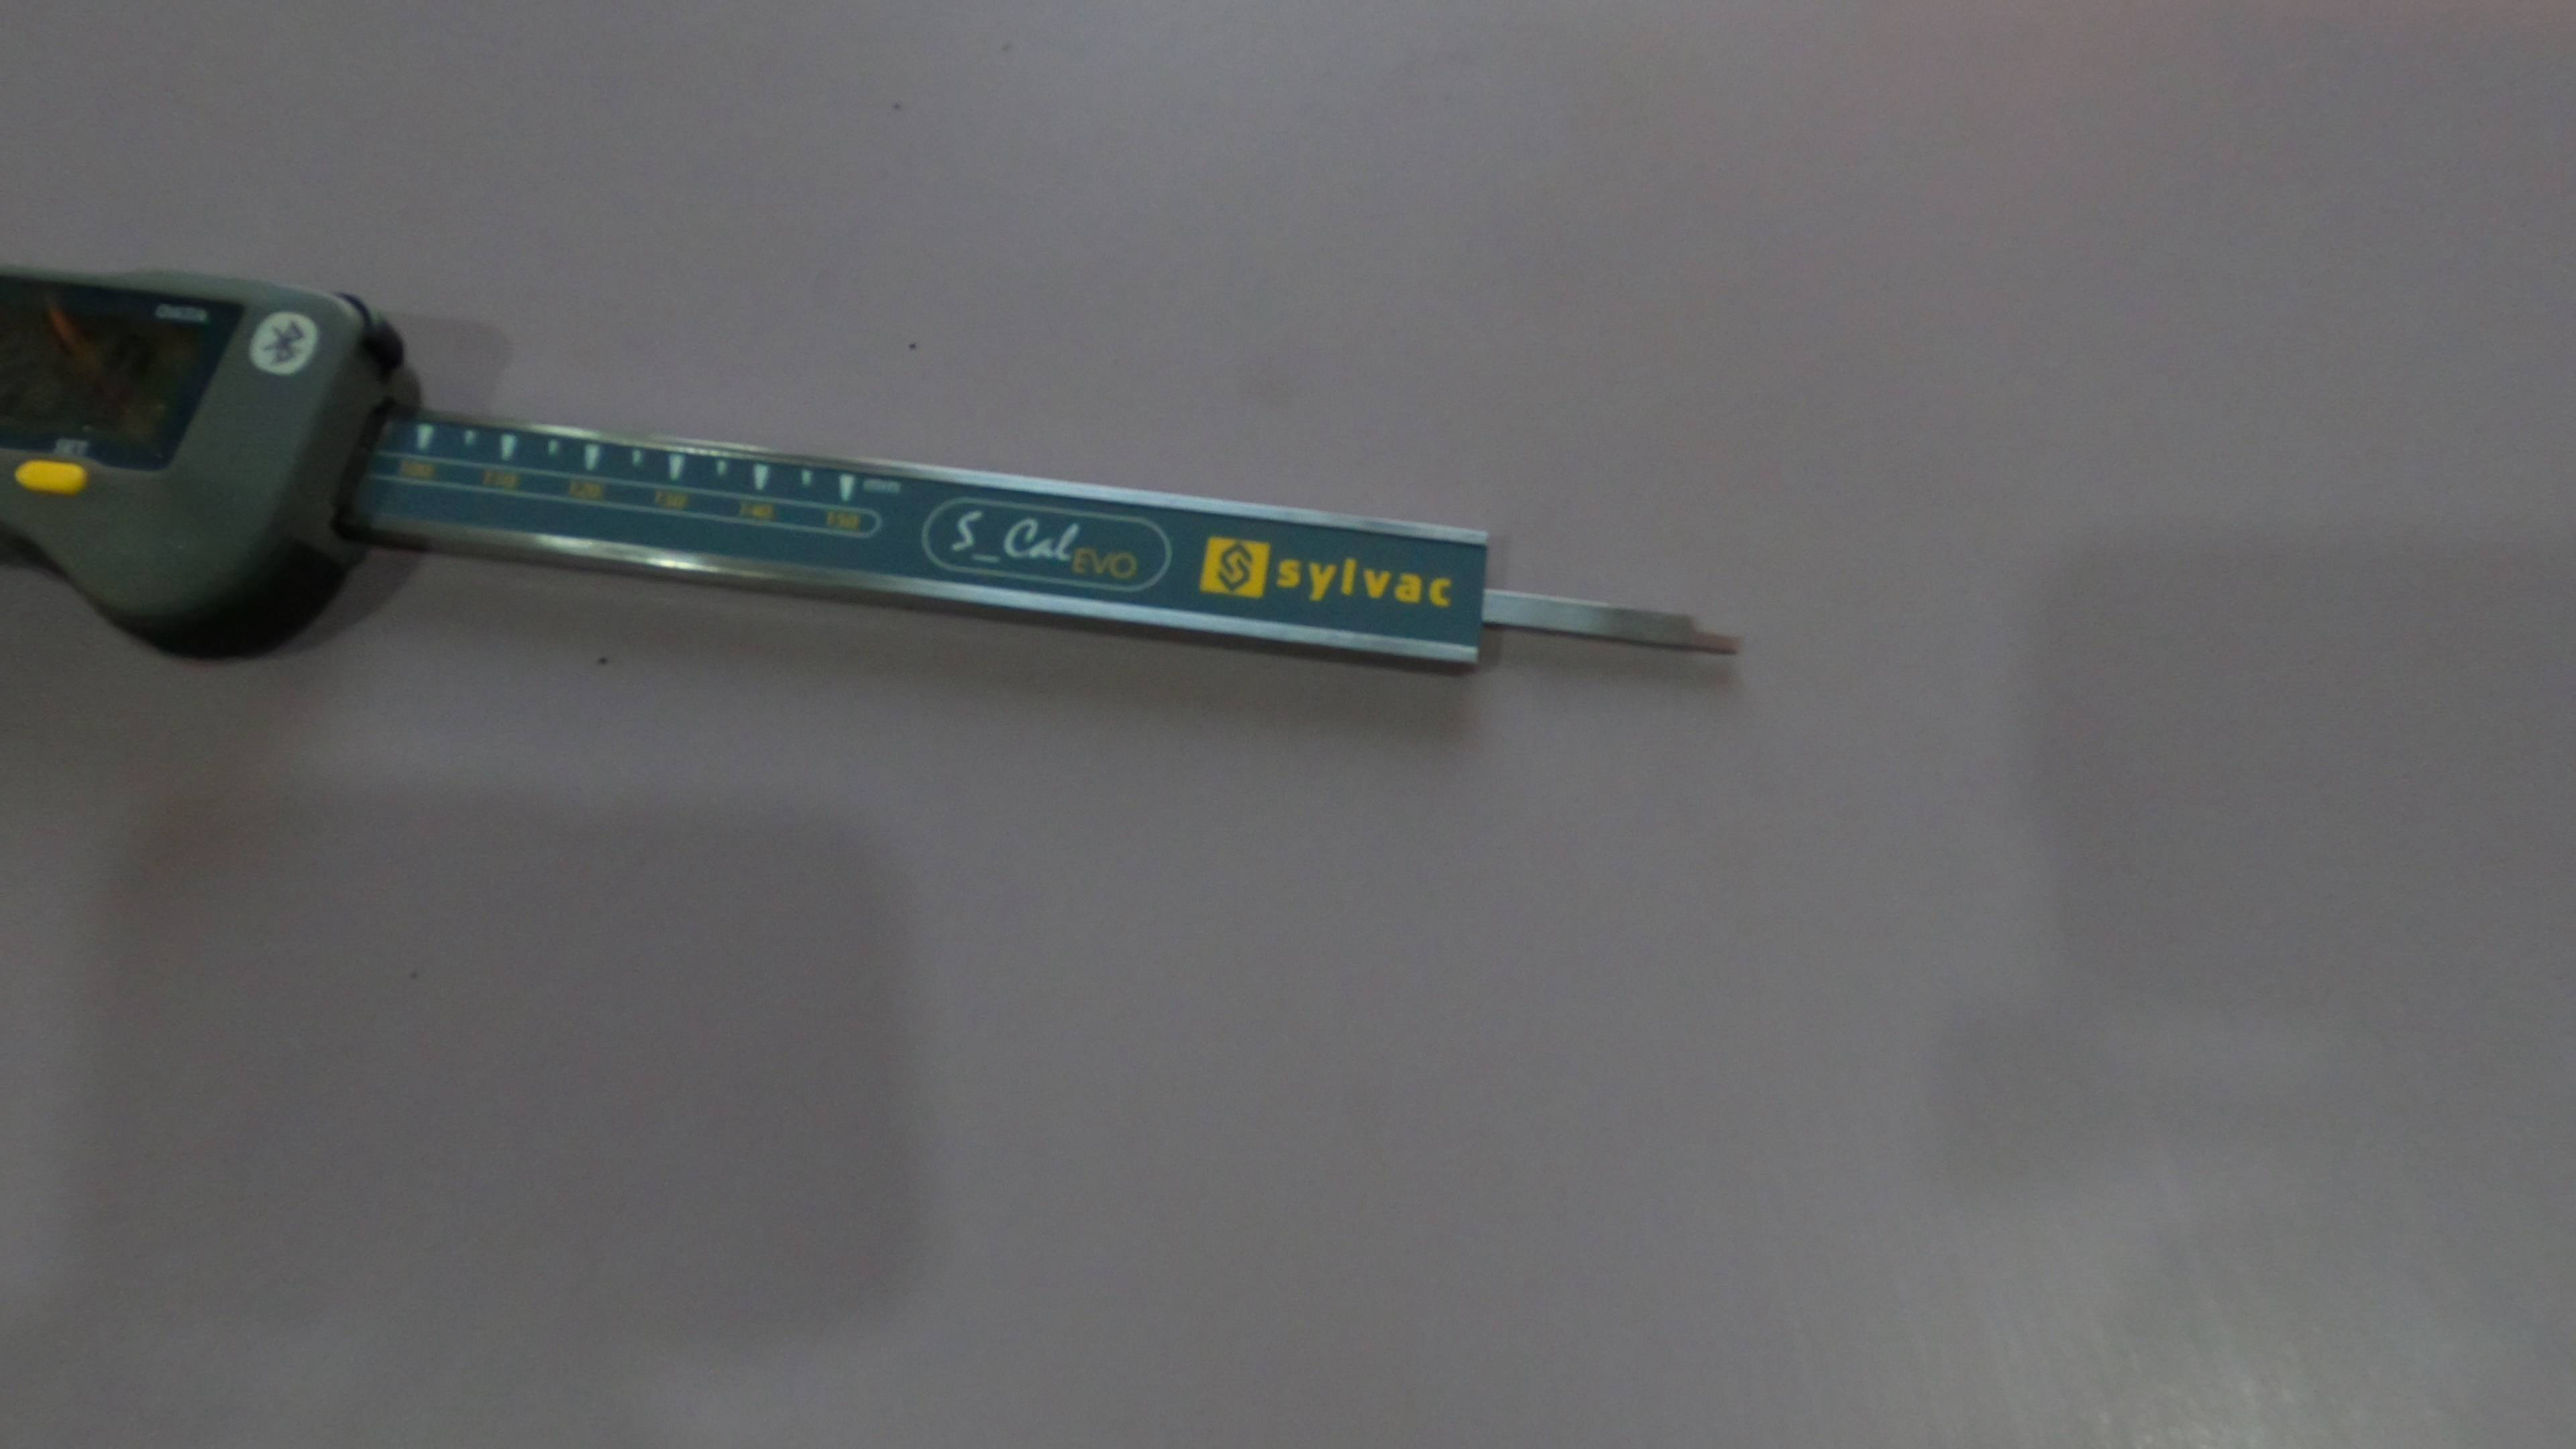vernier_caliper: (4, 230, 1748, 688)
